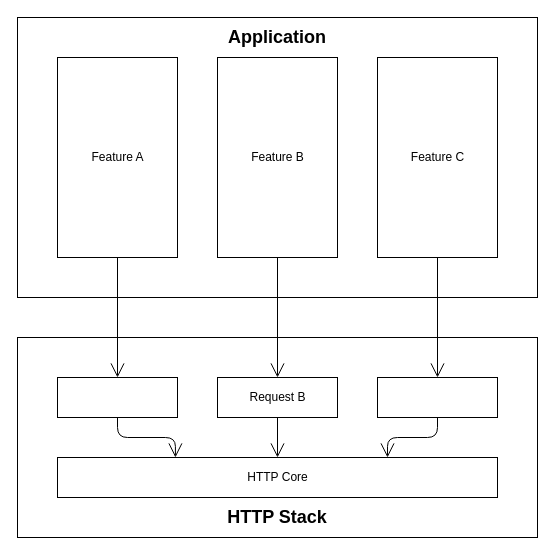
The diagram is 555 pixels wide and 555 high, and some of its shapes have lost their labels. Each missing label, with the box of its shape:
Request A: (56, 376, 178, 418)
Request C: (376, 376, 498, 418)
